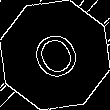O_SE: (24, 22, 86, 88)
